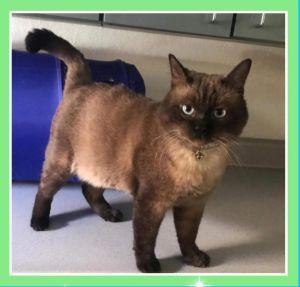siamese: (156, 44, 264, 155)
